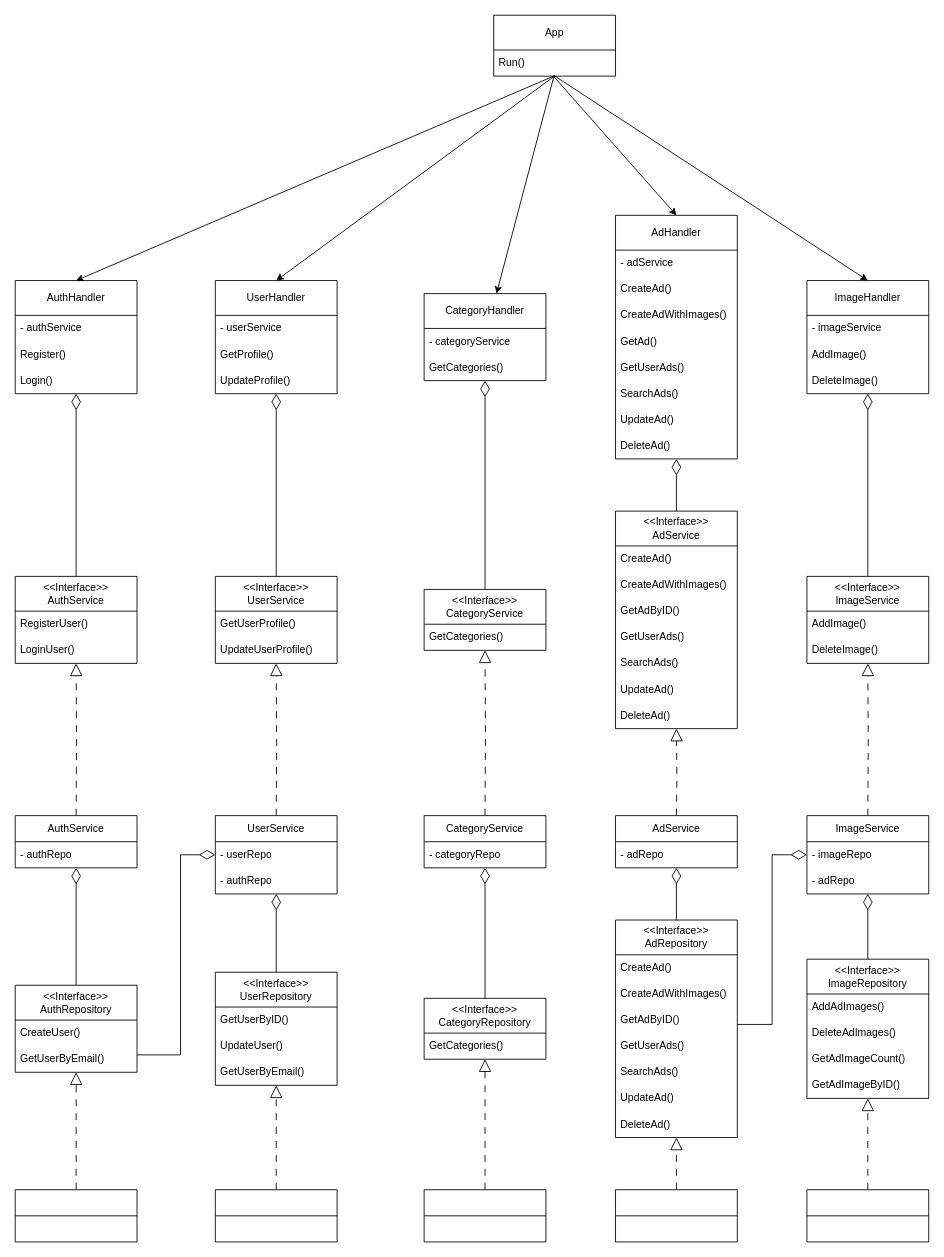
The diagram is 944 pixels wide and 1257 high, and some of its shapes have lost their labels. Here are the shapes that lost their labels. From the top down, the centre of each, then its label:
At point 75,1215: "AuthRepository".
At point 275,1215: "UserRepository".
At point 484,1215: "CategoryRepository".
At point 676,1215: "AdRepository".
At point 867,1215: "ImageRepository".
